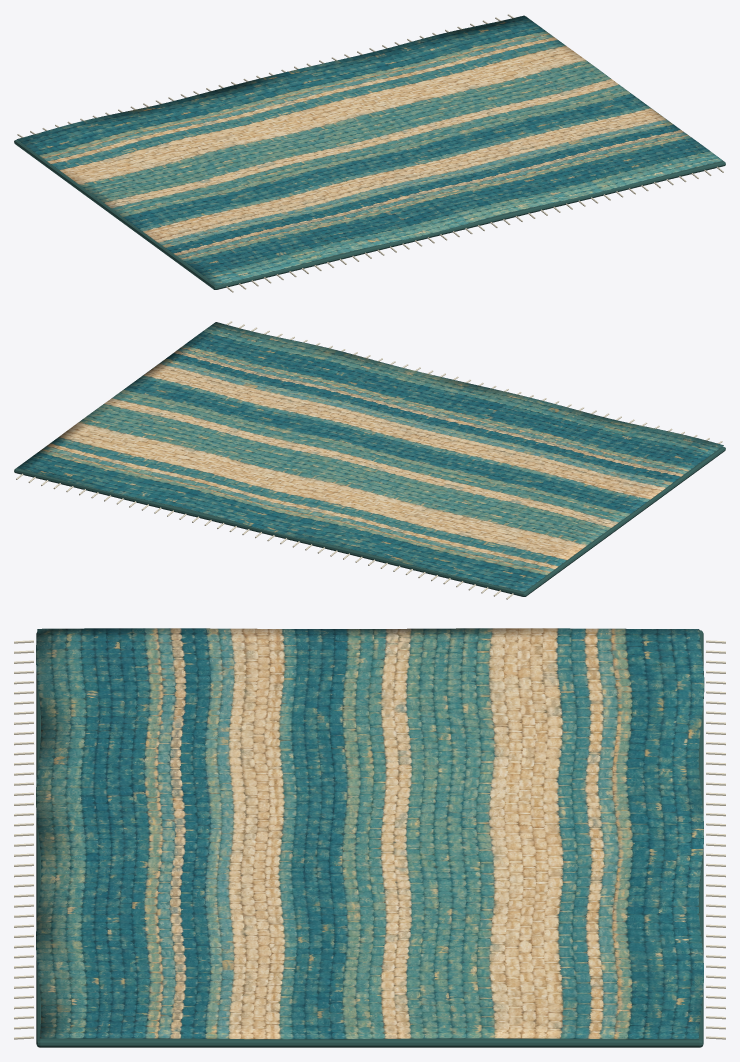
3 views of the same model, one above another, from view 1: azimuth 30°, elevation 25°; view 2: azimuth 150°, elevation 25°; view 3: azimuth 270°, elevation 25° (orthographic). The views are drawn at different scales.
Parts seen in each view (by area): view 1: Painted workshop weave, workshop_teal_dark, workshop_linen; view 2: Painted workshop weave, workshop_teal_dark, workshop_linen; view 3: Painted workshop weave, workshop_teal_dark, workshop_linen.
Boxes of the visible parts, box(x1,y1,x2,y2) form: Painted workshop weave: box(17, 15, 722, 285); workshop_teal_dark: box(14, 16, 725, 289); workshop_linen: box(17, 14, 723, 292); Painted workshop weave: box(17, 322, 723, 591); workshop_teal_dark: box(14, 364, 725, 596); workshop_linen: box(16, 321, 722, 599); Painted workshop weave: box(36, 628, 704, 1039); workshop_teal_dark: box(36, 630, 703, 1047); workshop_linen: box(14, 640, 725, 1039).
Bounding box in the file's own units: 4.4 × 0.0473 × 3.2.
4 materials, 1 textured.
